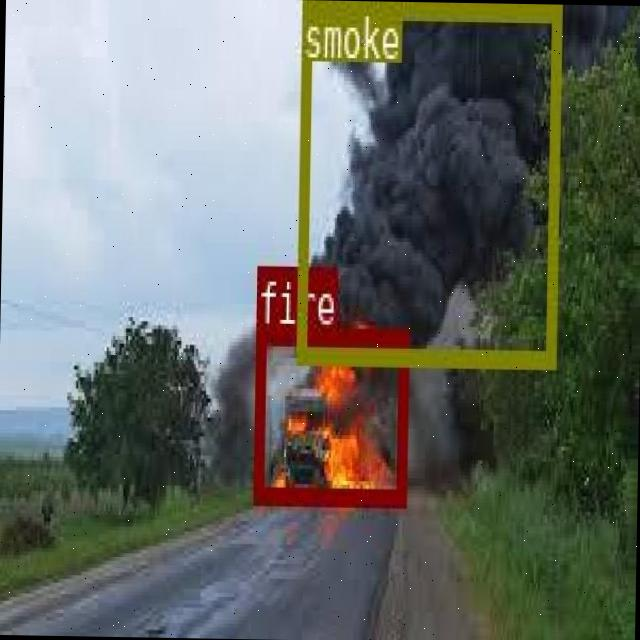fire: (251, 324, 406, 503)
smoke: (296, 0, 558, 362)
